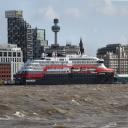cruises: (15, 51, 116, 87)
